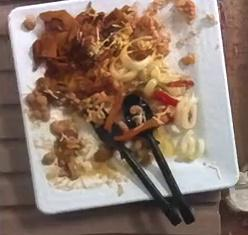taco_mix: (26, 1, 204, 190)
